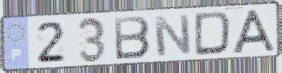2: (34, 20, 69, 65)
3: (77, 15, 107, 65)
A: (230, 8, 278, 56)
B: (112, 15, 152, 62)
D: (193, 10, 234, 58)
N: (152, 13, 194, 58)
